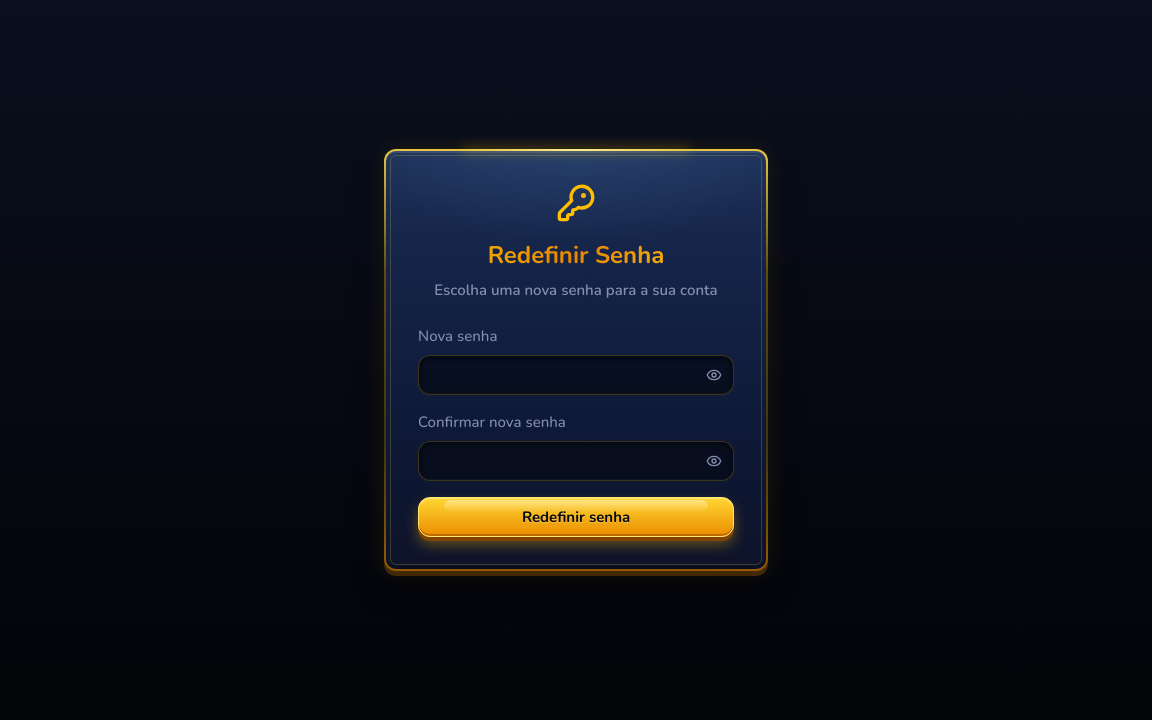
ResetPassword › updates the password through the authenticated session and shows success
In the password field labelled "Nova senha": x=576, y=375 [418,355,734,395], type "senha123"
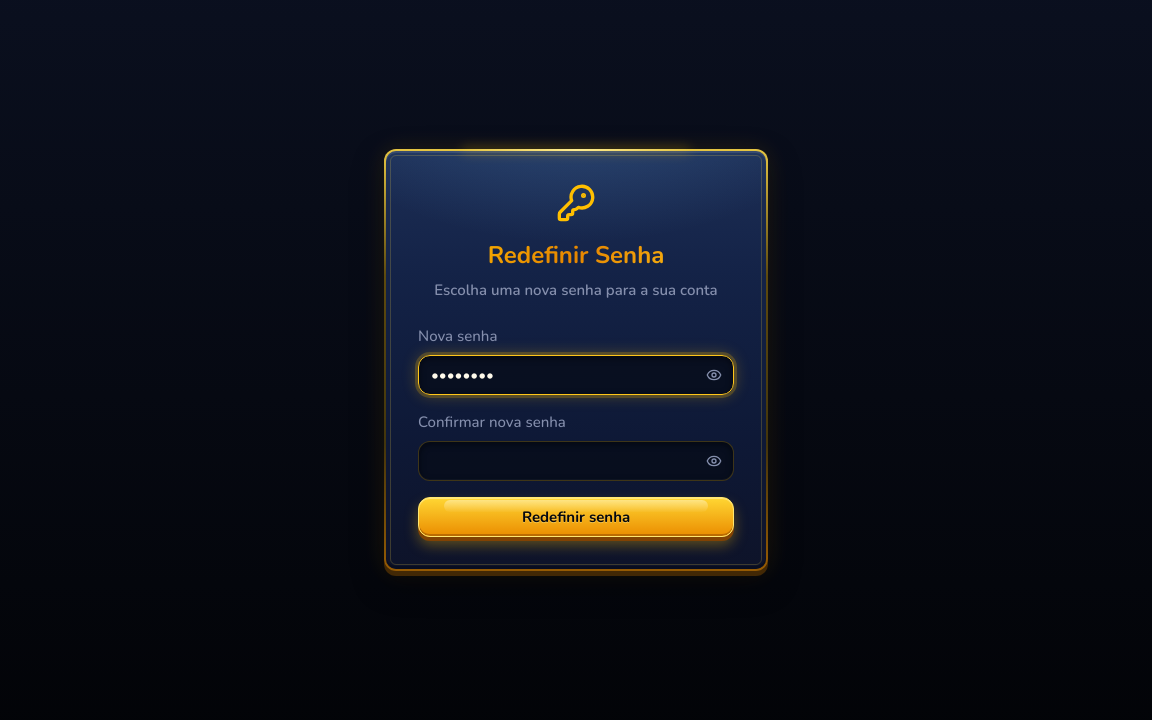
In the password field labelled "Confirmar nova senha": x=576, y=461 [418,441,734,481], type "senha123"
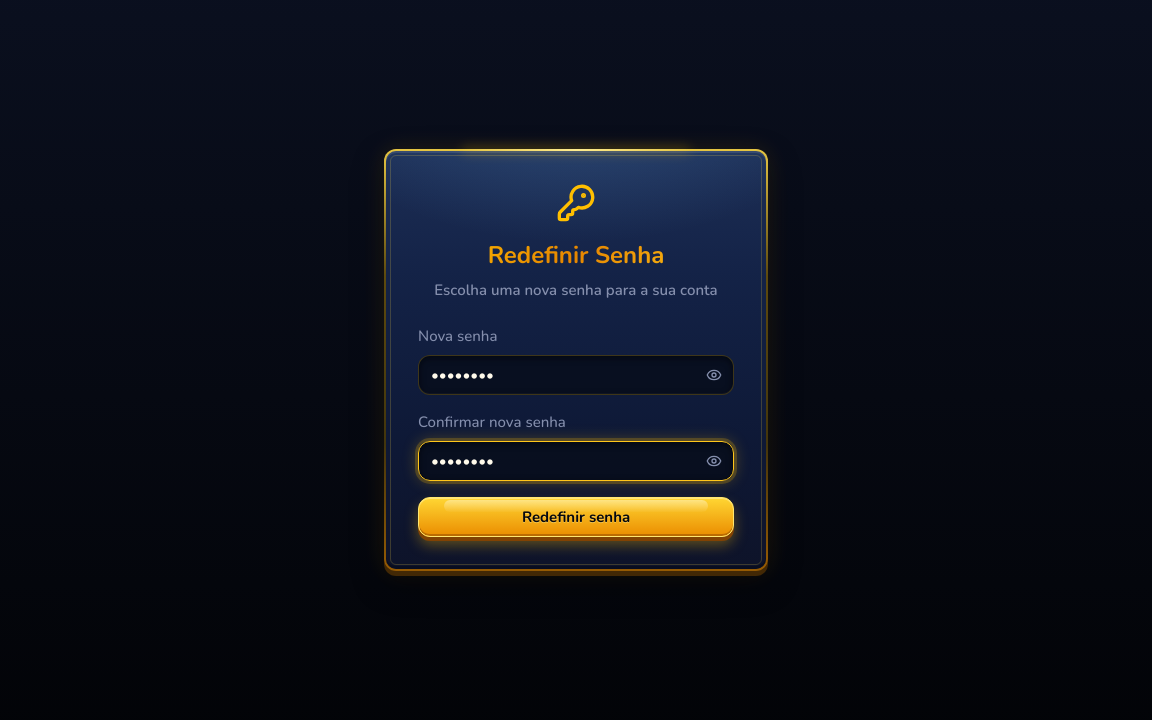
Click the button "Redefinir senha": x=576, y=517 [418,497,734,537]
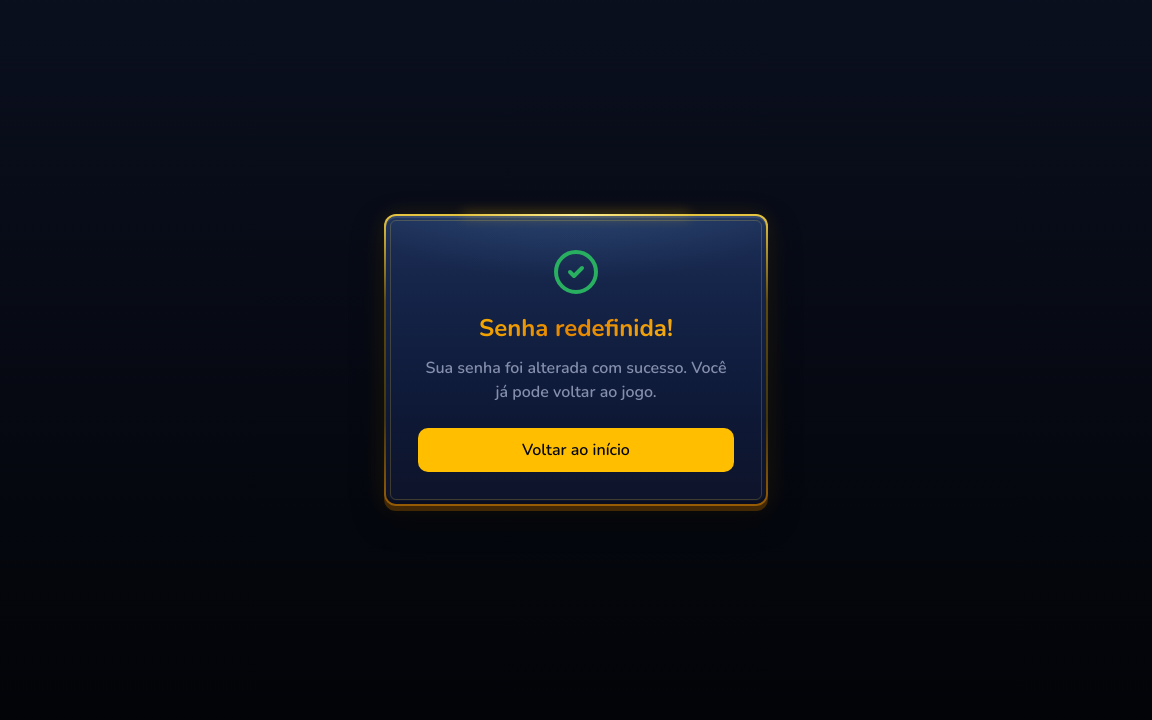
Check: the heading "Senha redefinida!" is shown, box [418,312,734,344]
